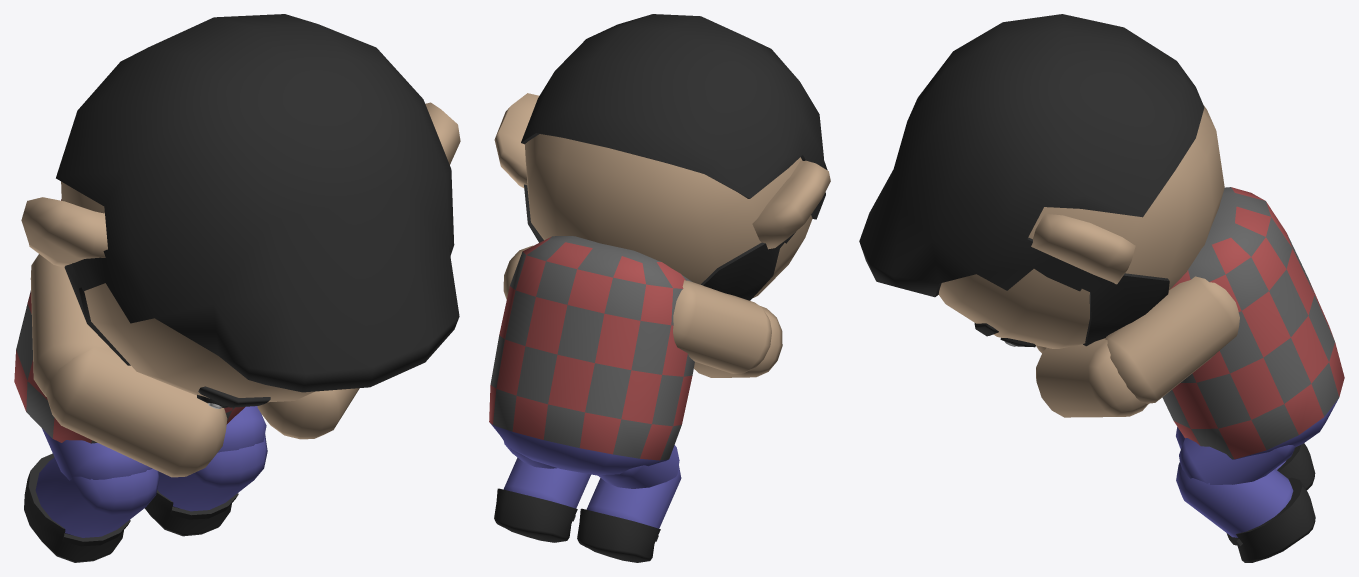
The model's file is woodcutter_Anim_Block.fbx.
The picture shows the model from 3 angles, left to right: view 1: azimuth 30°, elevation 25°; view 2: azimuth 150°, elevation 25°; view 3: azimuth 270°, elevation 25°; orthographic projection. The views are drawn at different scales.
Visible parts, largest first — view 1: hair_02, head, arm_R2, leg_R2, arm_R1, leg_L2, leg_R3, arm_L2, torso, leg_R1, leg_L3, leg_L1 (+2 smaller); view 2: torso, hair_02, head, arm_R1, leg_R3, leg_L3, leg_R2, beard_02, leg_L2, leg_R1, arm_R2; view 3: hair_02, torso, head, arm_L1, arm_L2, leg_L2, beard_02, leg_L3, leg_L1, leg_R3.
Part boxes in pixels (x1,y1,x2,y2): hair_02: (56,14,459,392); head: (21,102,460,402); arm_R2: (46,346,227,477); leg_R2: (35,457,159,537); arm_R1: (30,254,110,396); leg_L2: (157,434,267,511); leg_R3: (24,453,130,562); arm_L2: (257,388,359,439); torso: (14,199,245,443); leg_R1: (42,428,152,480); leg_L3: (144,490,238,536); leg_L1: (218,406,266,452); torso: (489,236,694,475); hair_02: (521,14,827,243); head: (494,93,830,297); arm_R1: (673,280,771,373); leg_R3: (577,508,660,562); leg_L3: (494,488,577,542); leg_R2: (586,466,681,528); beard_02: (524,184,785,300); leg_L2: (503,457,590,508); leg_R1: (598,445,679,488); arm_R2: (694,305,782,377); hair_02: (859,14,1204,297); torso: (1162,187,1344,459); head: (938,105,1224,348); arm_L1: (1105,276,1239,403); arm_L2: (1036,338,1148,417); leg_L2: (1176,462,1293,537); beard_02: (1082,273,1169,346); leg_L3: (1226,477,1315,562); leg_L1: (1179,438,1294,484); leg_R3: (1277,443,1315,489).
Size of the model in its own units: 1.7 by 2.36 by 2.06.
